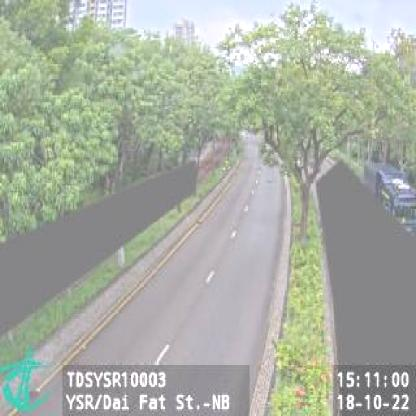Truck: (372, 164, 416, 231)
